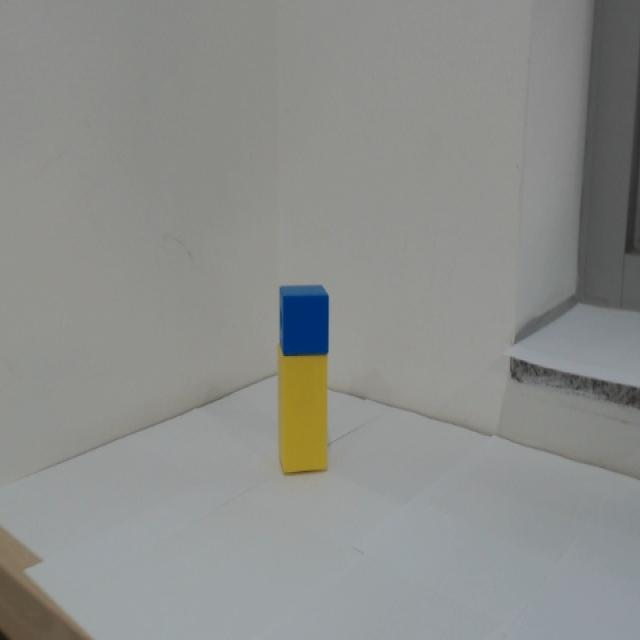cube: (278, 283, 330, 358)
